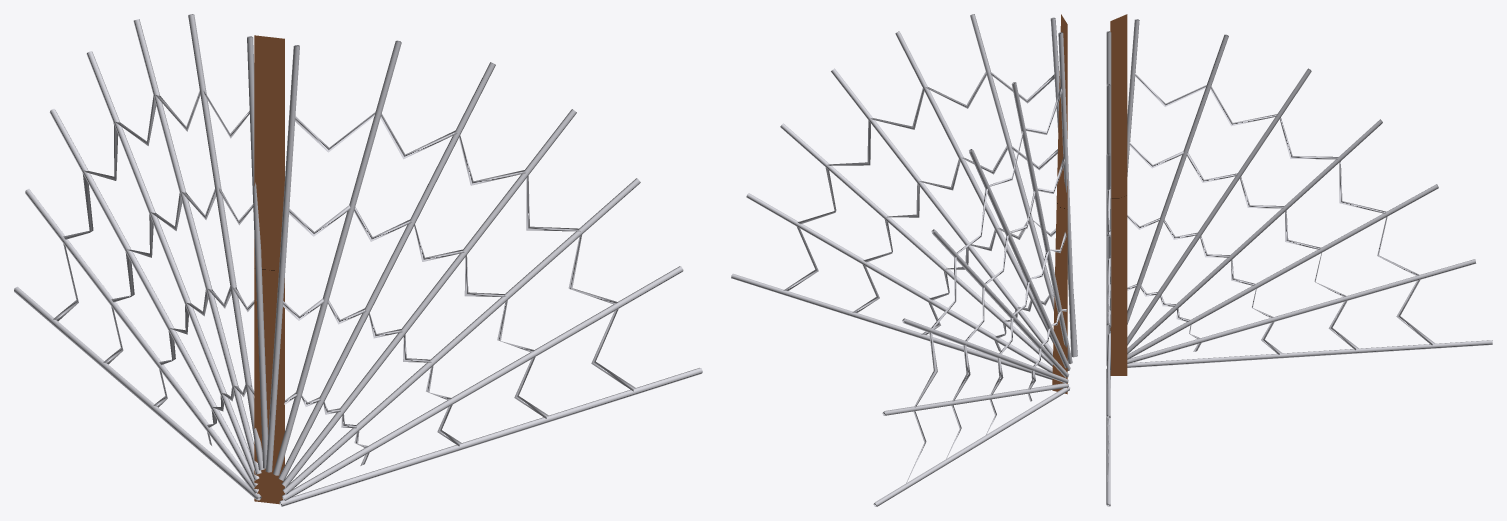
File: cobweb-pixor_lod1.glb
3 renders of one model, left to right at view 1: azimuth 30°, elevation 25°; view 2: azimuth 150°, elevation 25°; view 3: azimuth 270°, elevation 25°, orthographic. The views are drawn at different scales.
Parts seen in each view (by area): view 1: Cobweb, Corner post; view 2: Cobweb, Corner post; view 3: Cobweb, Corner post.
Boxes of the visible parts, box(x1,y1,x2,y2) form: Cobweb: box(14, 14, 702, 506); Corner post: box(254, 35, 284, 504); Cobweb: box(731, 14, 1077, 506); Corner post: box(1052, 14, 1067, 394); Cobweb: box(1106, 19, 1492, 506); Corner post: box(1110, 14, 1127, 375).
Size of the model in its own units: 0.9002 by 0.92 by 0.9082.
